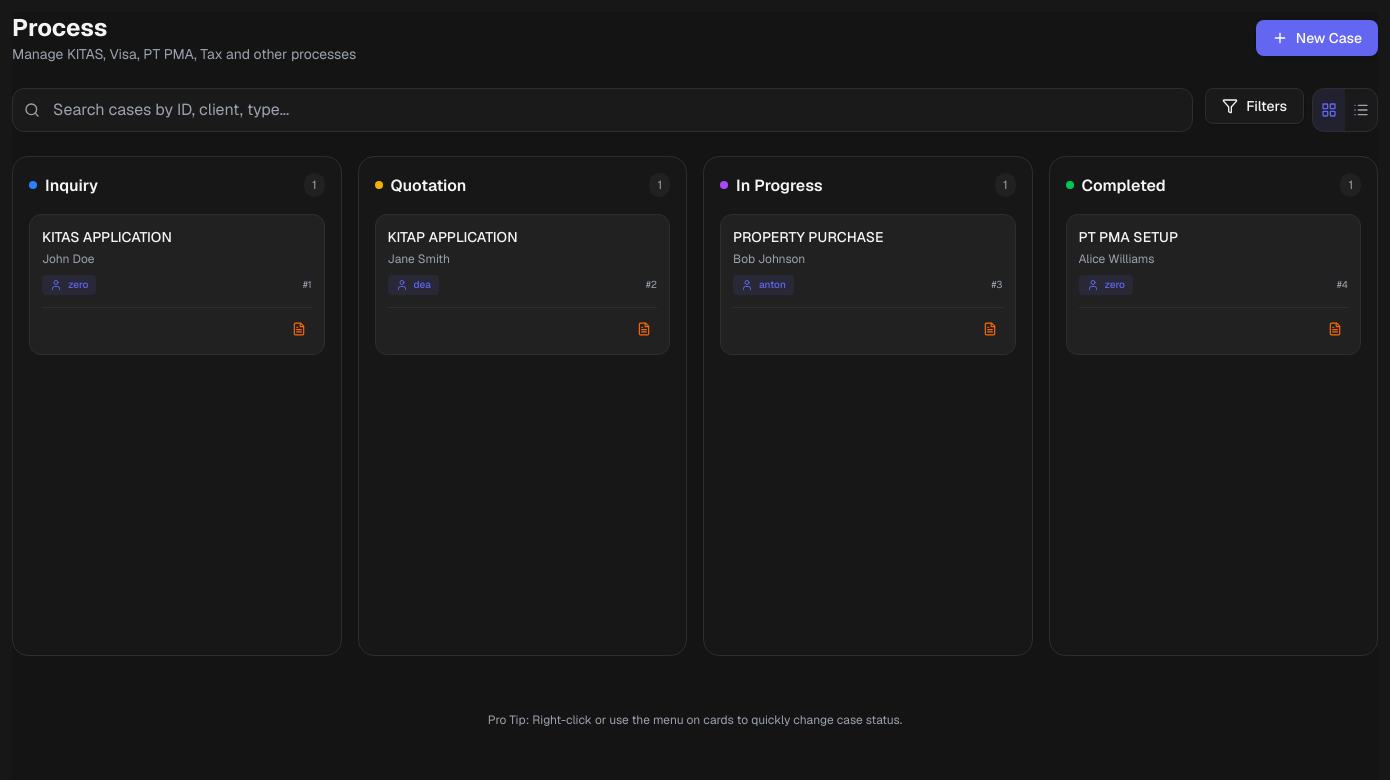
Cases Page › Filter Functionality › should filter by status
Check: the text "John Doe" is shown, box [42,251,94,267]
Open filters
Step 1. Click the button "Filters" → (1255, 106), box [1205,88,1304,124]
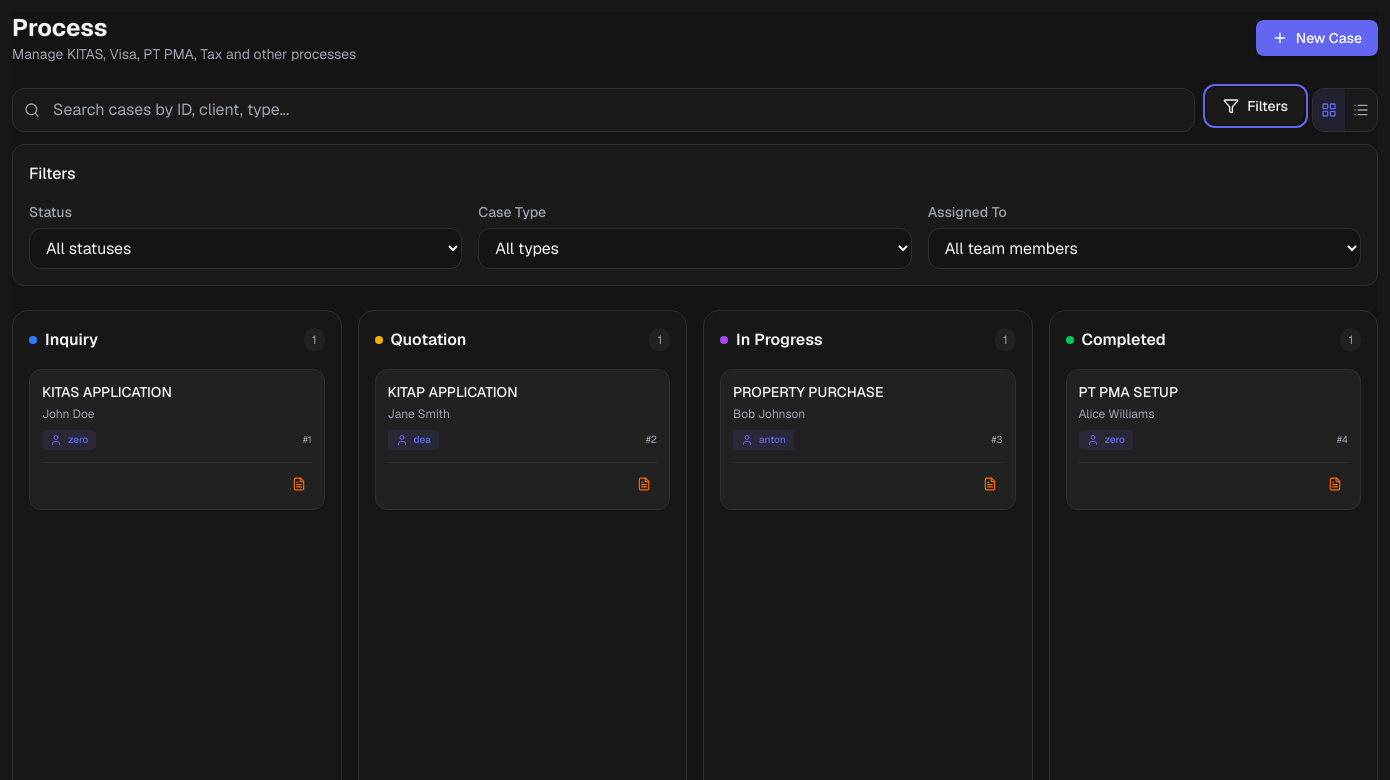
Select "In Progress" status
Step 2. Select "In Progress" in the dropdown labelled "Status" → (246, 249), box [29,228,462,269]
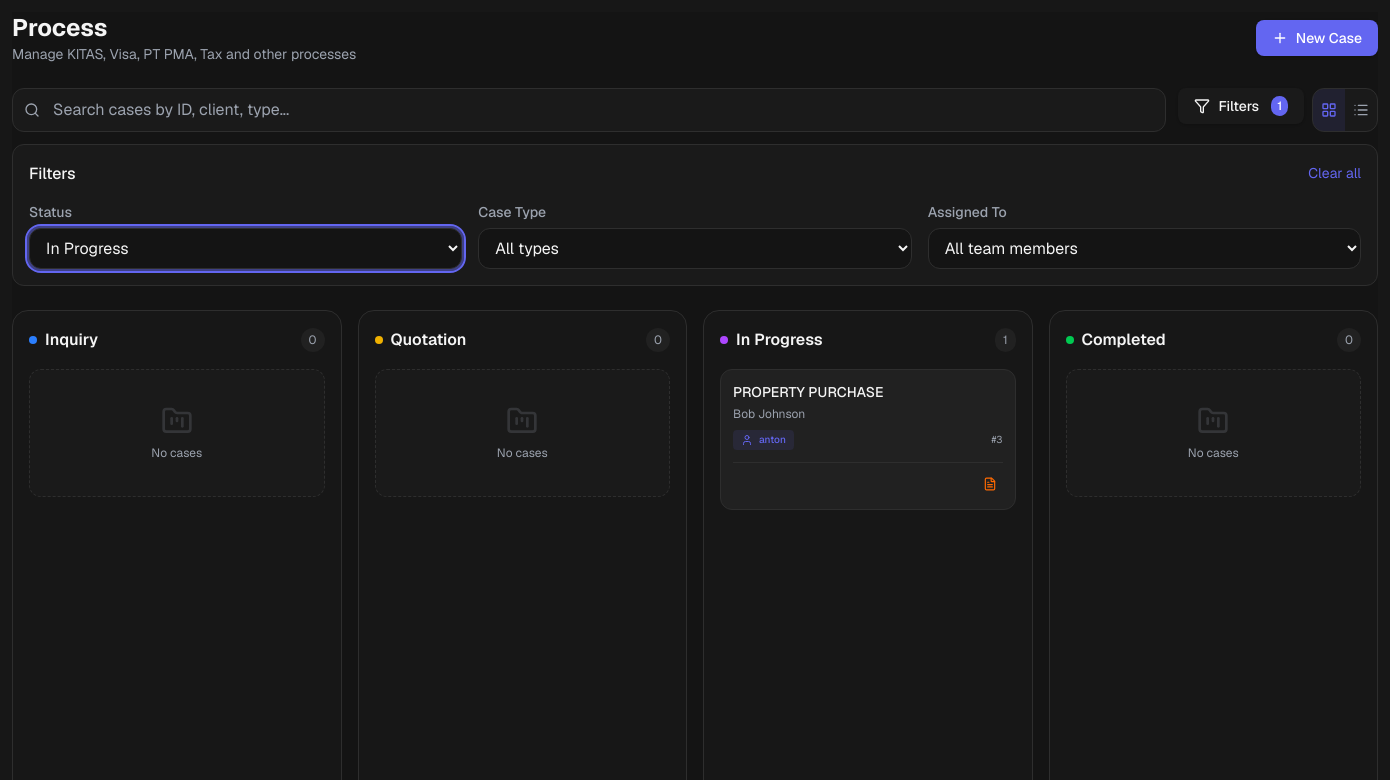
Check: the text "Bob Johnson" is shown, box [733,406,805,422]
Check: the text "John Doe" is gone
